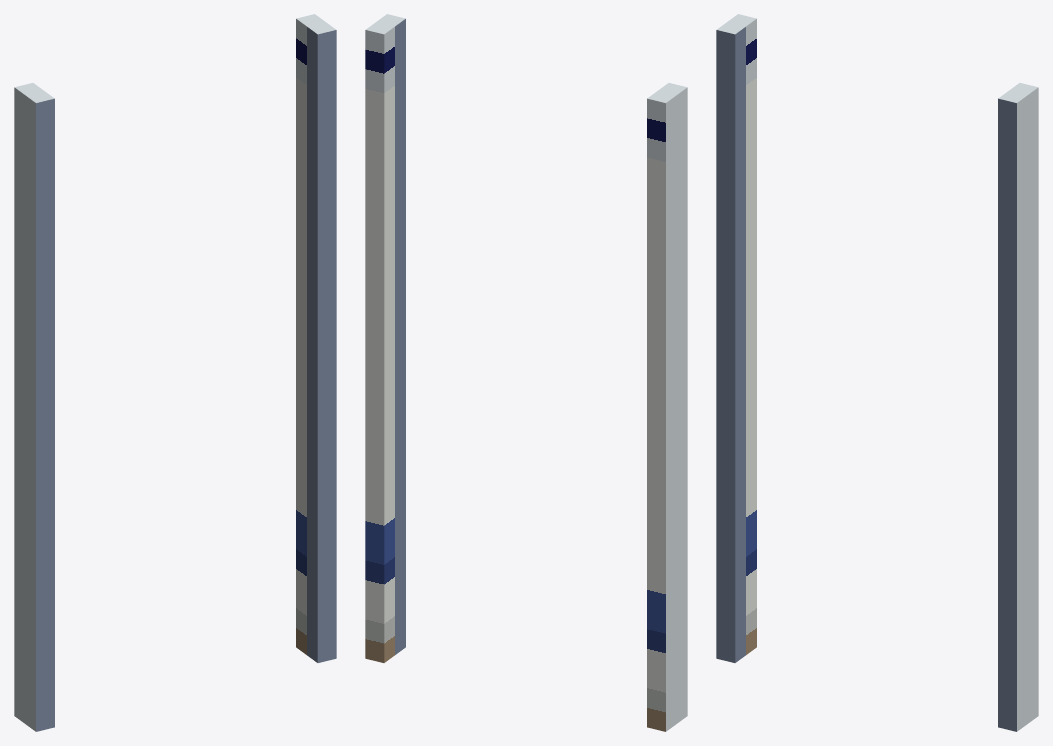
File: df21_equip_door_frame.obj
3 renders of one model, left to right at view 1: azimuth 30°, elevation 25°; view 2: azimuth 150°, elevation 25°; view 3: azimuth 330°, elevation 25°, orthographic.
Visible parts, largest first — view 1: sbj; view 2: sbj; view 3: sbj.
Part boxes in pixels (left/top/right/bottom): sbj: left=14, top=14, right=336, bottom=731; sbj: left=365, top=14, right=687, bottom=731; sbj: left=716, top=14, right=1038, bottom=731.
Bounding box in the file's own units: 1 × 2 × 0.125.
